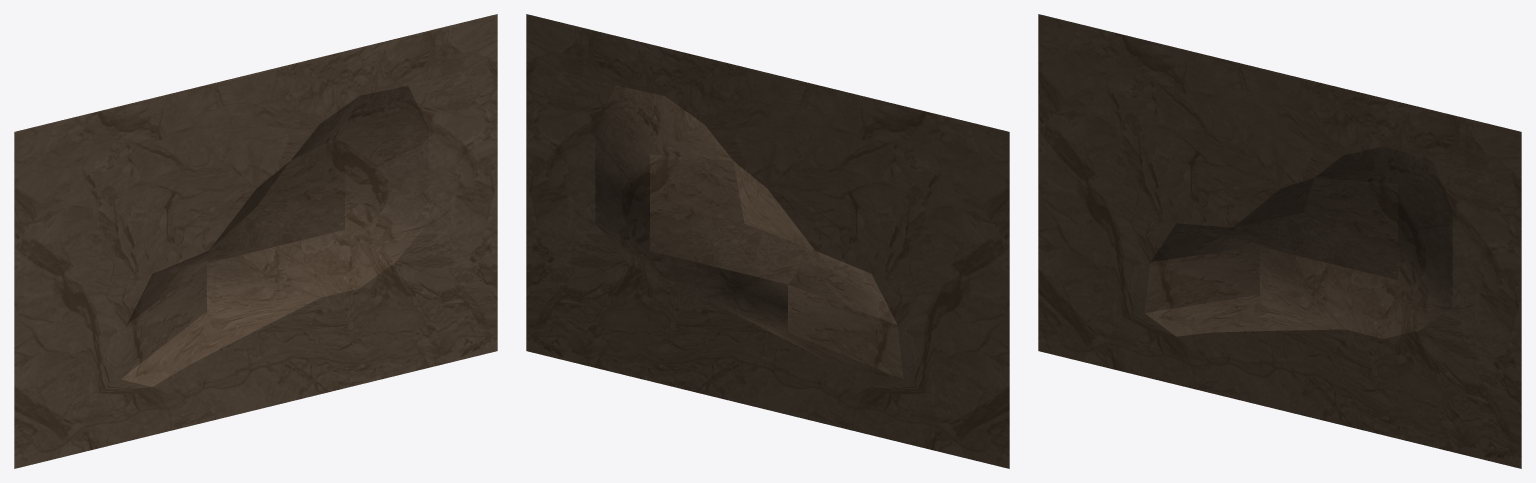
The model's file is fundo3.FBX.
The picture shows the model from 3 angles, left to right: view 1: azimuth 30°, elevation 25°; view 2: azimuth 150°, elevation 25°; view 3: azimuth 330°, elevation 25°; orthographic projection.
Visible parts, largest first — view 1: Plane010; view 2: Plane010; view 3: Plane010.
Boxes of the visible parts, box(x1,y1,x2,y2) form: Plane010: box(14, 14, 497, 468); Plane010: box(526, 14, 1009, 468); Plane010: box(1038, 14, 1521, 468).
Size of the model in its own units: 244 by 163 by 12.69.
